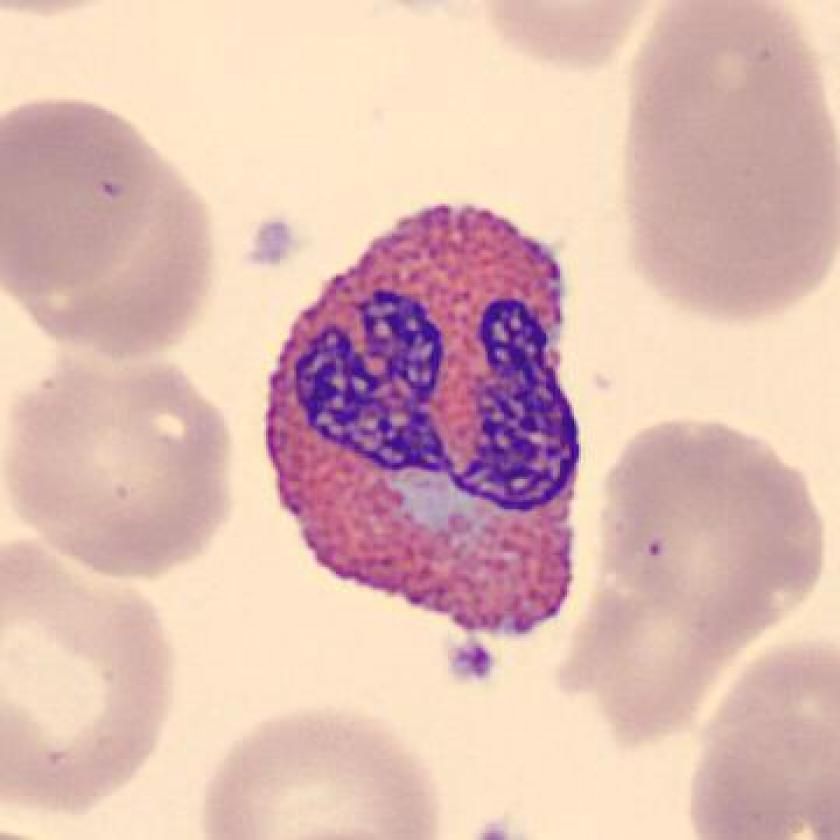eosinophil: (246, 184, 594, 649)
